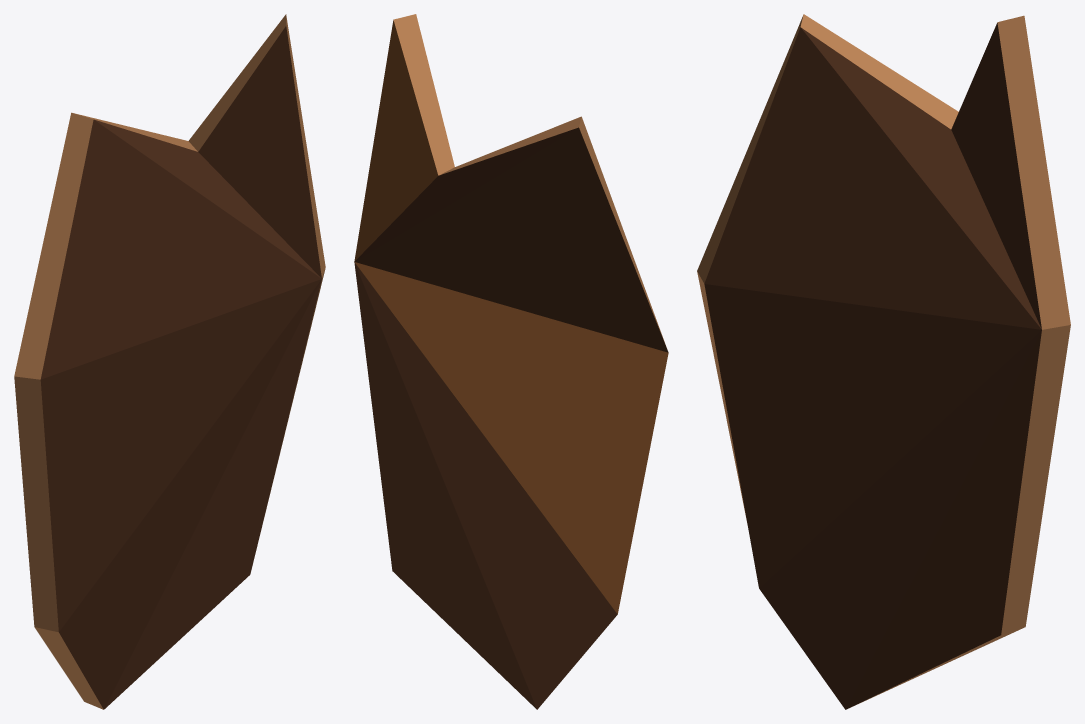
Rendered from beer_bottle_piece_back.glb.
The picture shows the model from 3 angles, left to right: view 1: azimuth 30°, elevation 25°; view 2: azimuth 150°, elevation 25°; view 3: azimuth 330°, elevation 25°; orthographic projection. The views are drawn at different scales.
Visible parts, largest first — view 1: Curved solid jagged glass.001; view 2: Curved solid jagged glass.001; view 3: Curved solid jagged glass.001.
Part boxes in pixels (x1,y1,x2,y2): Curved solid jagged glass.001: (14, 14, 325, 709); Curved solid jagged glass.001: (354, 14, 668, 709); Curved solid jagged glass.001: (697, 14, 1070, 709).
Size of the model in its own units: 0.043 by 0.0849 by 0.0102.
